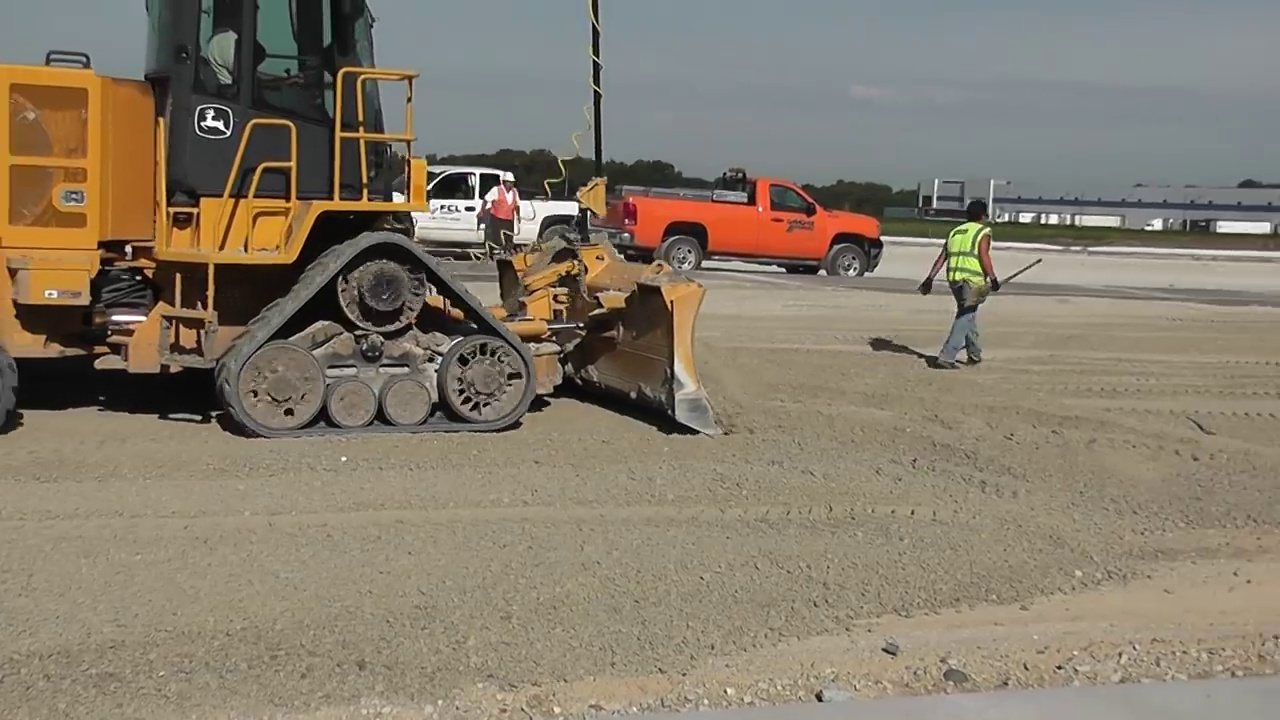bulldozer: (1, 10, 734, 445)
person: (917, 203, 1000, 369), (481, 171, 521, 251)
truck: (607, 176, 881, 275)
